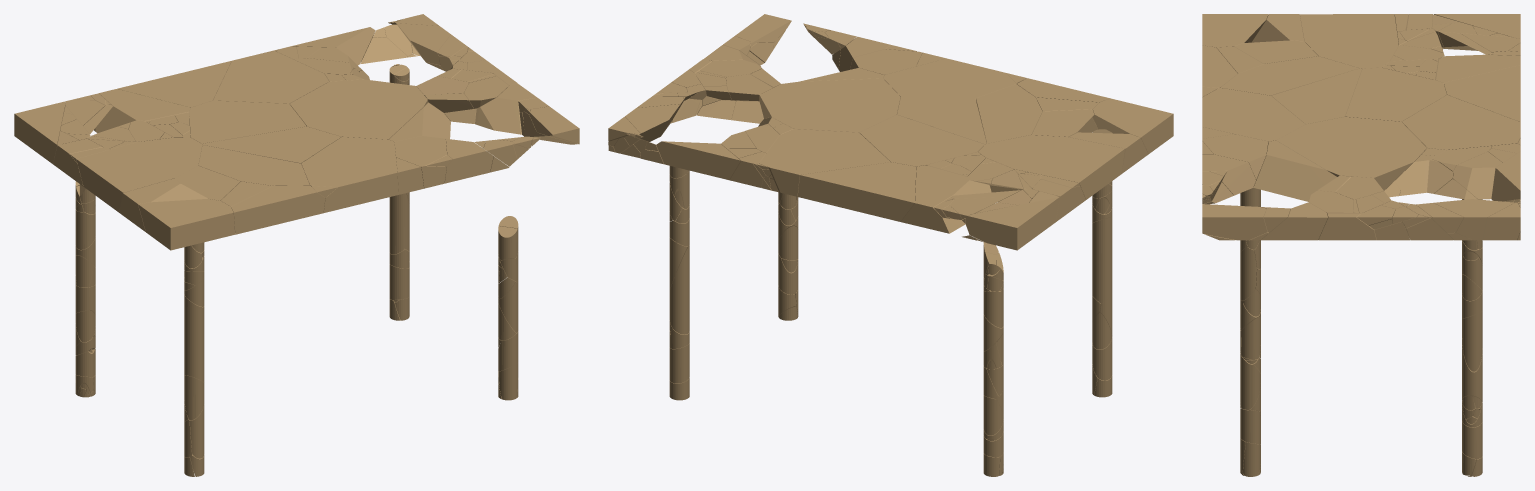
The model's file is desk.fbx.
3 views of the same model, side by side, from view 1: azimuth 30°, elevation 25°; view 2: azimuth 150°, elevation 25°; view 3: azimuth 270°, elevation 25° (orthographic).
Visible parts, largest first — view 1: Cube_cell.077, Cube_cell.152, Cube_cell.137, Cube_cell.109, Cube_cell.033, Cube_cell.131, Cube_cell.009, Cube_cell.042, Cube_cell.015, Cube_cell.160, Cube_cell.143, Cube_cell.001 (+29 smaller); view 2: Cube_cell.077, Cube_cell.137, Cube_cell.160, Cube_cell.109, Cube_cell.131, Cube_cell.152, Cube_cell.001, Cube_cell.143, Cube_cell.042, Cube_cell.015, Cube_cell.033, Cube_cell.004 (+24 smaller); view 3: Cube_cell.077, Cube_cell.137, Cube_cell.109, Cube_cell.131, Cube_cell.152, Cube_cell.042, Cube_cell.076, Cube_cell.015, Cube_cell.160, Cube_cell.073_cell.001, Cube_cell.033, Cube_cell.143 (+41 smaller).
Part boxes in pixels (x1,y1,x2,y2): Cube_cell.077: (290,79,427,139); Cube_cell.152: (301,137,398,212); Cube_cell.137: (76,137,202,212); Cube_cell.109: (213,51,328,103); Cube_cell.033: (138,199,234,250); Cube_cell.131: (189,100,306,143); Cube_cell.009: (231,185,325,234); Cube_cell.042: (198,145,309,185); Cube_cell.015: (202,126,341,163); Cube_cell.160: (117,61,231,107); Cube_cell.143: (94,89,190,133); Cube_cell.001: (14,101,65,163); Cube_cell.077: (759,78,900,132); Cube_cell.137: (978,135,1124,199); Cube_cell.160: (797,162,916,221); Cube_cell.109: (759,129,890,196); Cube_cell.131: (859,115,984,166); Cube_cell.152: (883,58,1016,99); Cube_cell.001: (965,197,1059,250); Cube_cell.143: (900,165,991,233); Cube_cell.042: (976,84,1042,143); Cube_cell.015: (897,97,986,144); Cube_cell.033: (1092,98,1173,154); Cube_cell.004: (656,141,740,179); Cube_cell.077: (1276,117,1426,190); Cube_cell.137: (1300,14,1398,68); Cube_cell.109: (1402,95,1520,149); Cube_cell.131: (1345,67,1446,121); Cube_cell.152: (1202,88,1305,141); Cube_cell.042: (1220,56,1359,95); Cube_cell.076: (1253,140,1336,201); Cube_cell.015: (1271,68,1362,124); Cube_cell.160: (1444,65,1520,121); Cube_cell.073_cell.001: (1202,204,1267,240); Cube_cell.033: (1202,14,1268,47); Cube_cell.143: (1435,54,1520,83).
Size of the model in its own units: 329 by 211 by 218.
